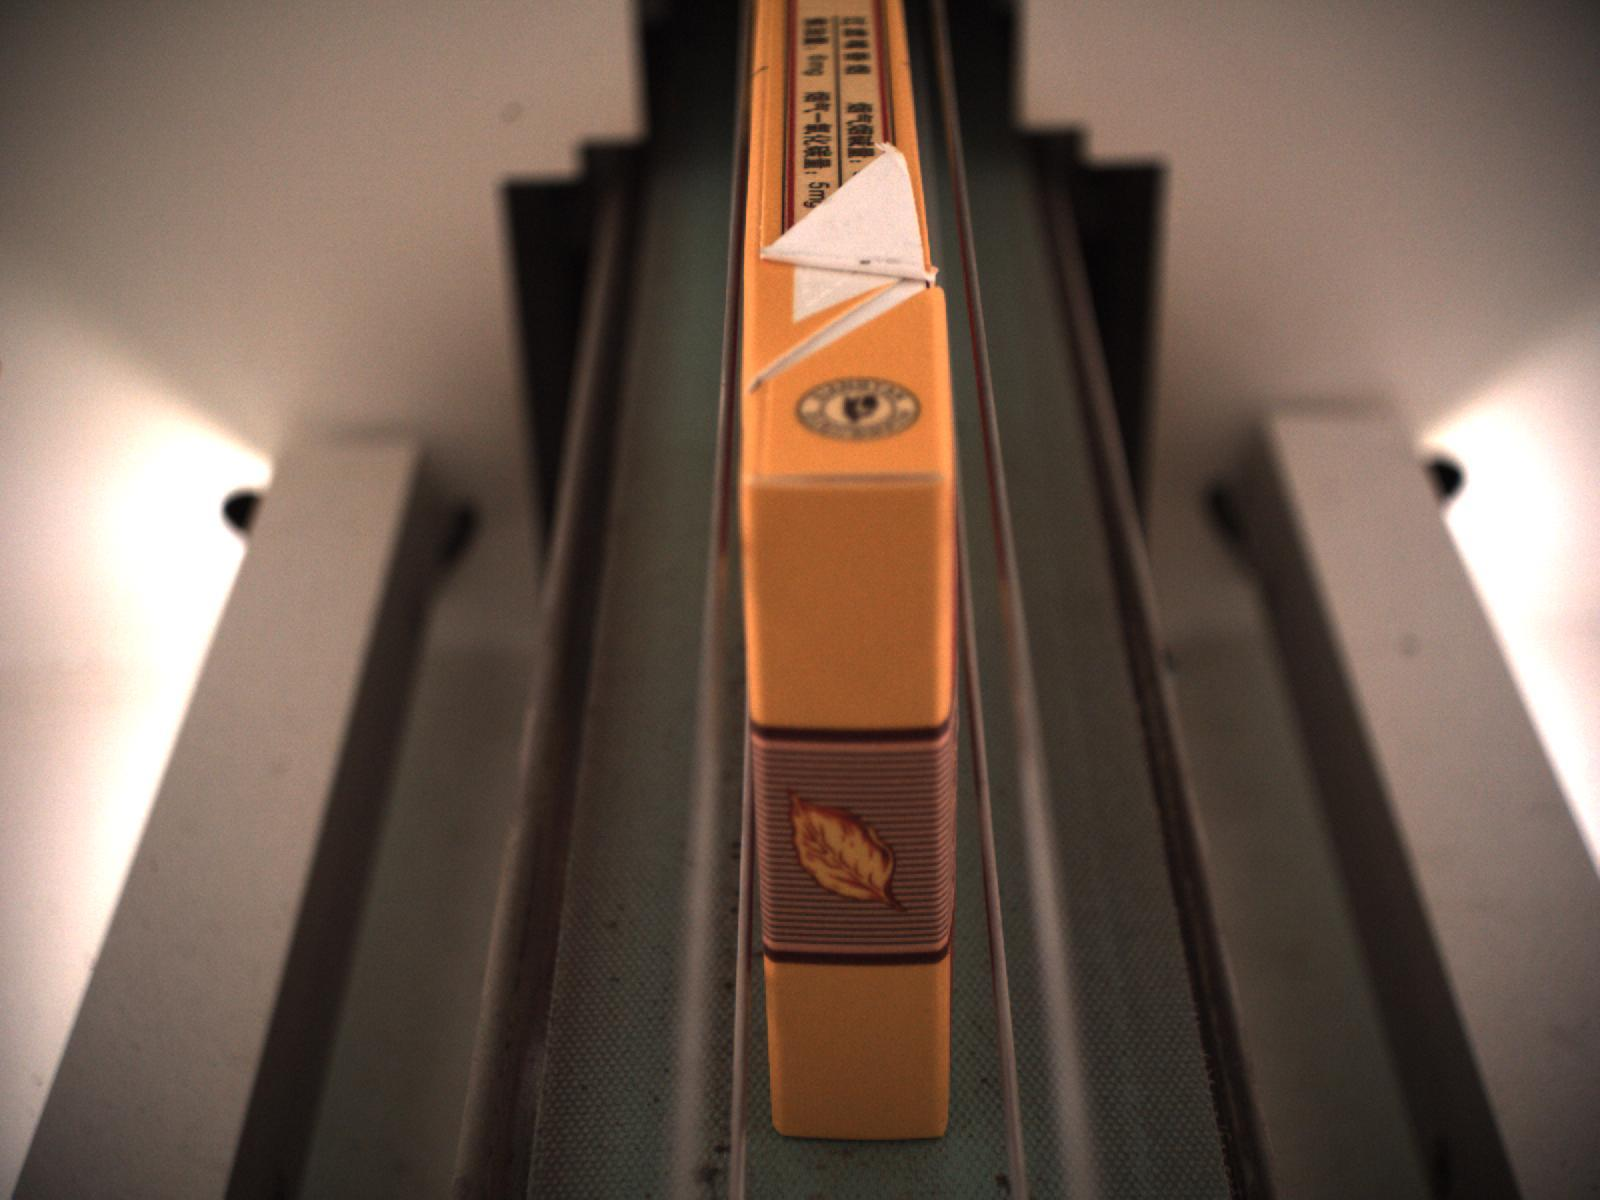outerFold_upper_2: (748, 137, 940, 369)
